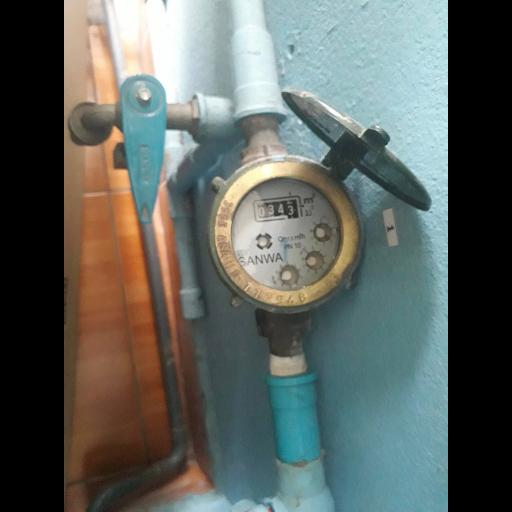0: (257, 202, 268, 218)
3: (285, 199, 299, 219), (266, 202, 277, 218)
4: (275, 200, 287, 217)
border_water_meter_number: (253, 195, 304, 223)
